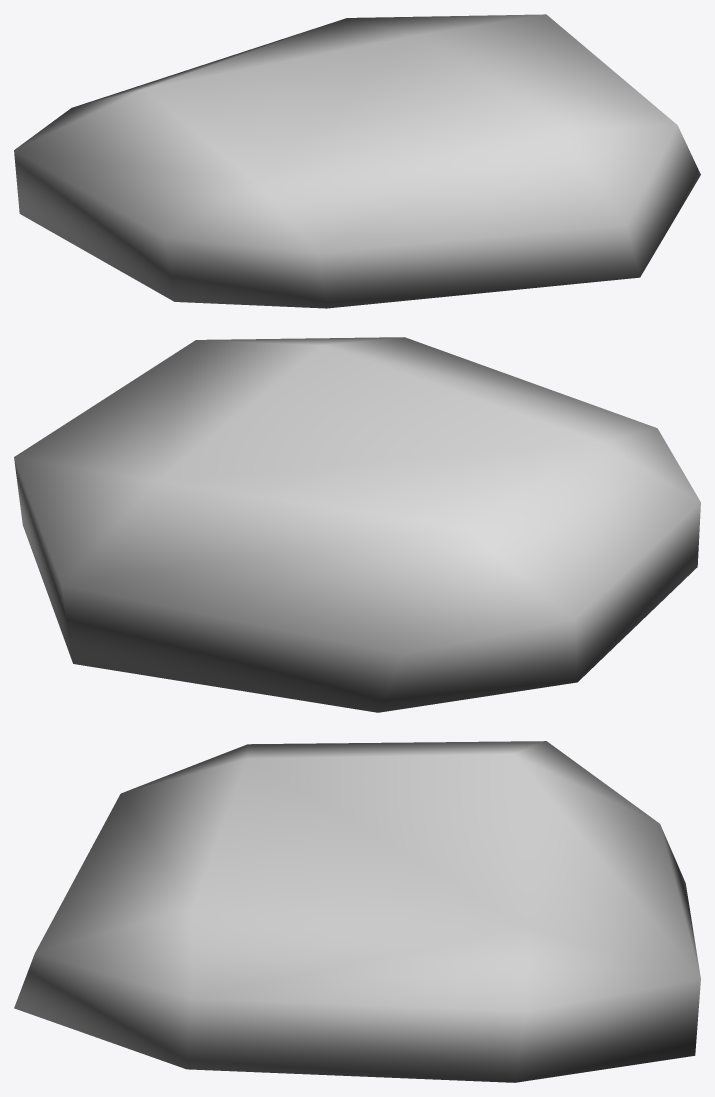
File: Rock 3.glb
3 views of the same model, one above another, from view 1: azimuth 30°, elevation 25°; view 2: azimuth 150°, elevation 25°; view 3: azimuth 270°, elevation 25° (orthographic). The views are drawn at different scales.
Parts seen in each view (by area): view 1: Rock 3; view 2: Rock 3; view 3: Rock 3.
Part boxes in pixels (x1,y1,x2,y2): Rock 3: [14, 14, 700, 308]; Rock 3: [14, 337, 700, 712]; Rock 3: [14, 741, 700, 1082].
Size of the model in its own units: 1.07 by 0.2573 by 1.08.
Materials: 1 (1 with a texture image).
